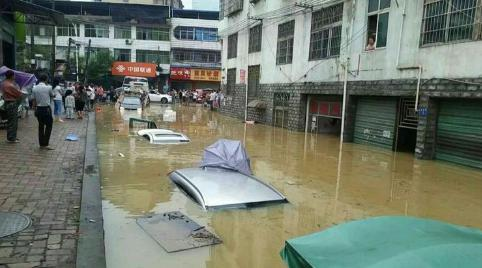water: (122, 101, 481, 252), (98, 103, 287, 267)
